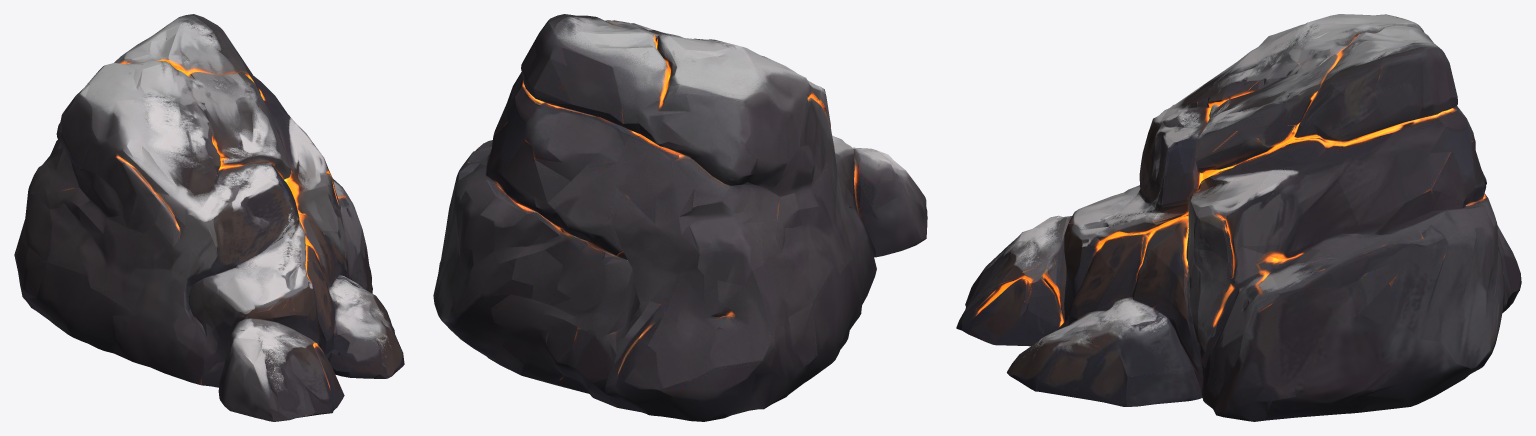
File: meshy_rock.glb
3 views of the same model, side by side, from view 1: azimuth 30°, elevation 25°; view 2: azimuth 150°, elevation 25°; view 3: azimuth 270°, elevation 25° (orthographic). The views are drawn at different scales.
Visible parts, largest first — view 1: Mesh_0; view 2: Mesh_0; view 3: Mesh_0.
Part boxes in pixels (x1=…): Mesh_0: x1=14, y1=14, x2=404, y2=421; Mesh_0: x1=433, y1=14, x2=927, y2=421; Mesh_0: x1=956, y1=14, x2=1521, y2=421.
Bounding box in the file's own units: 1.21 × 1 × 1.65.
Materials: 1 (1 with a texture image).
